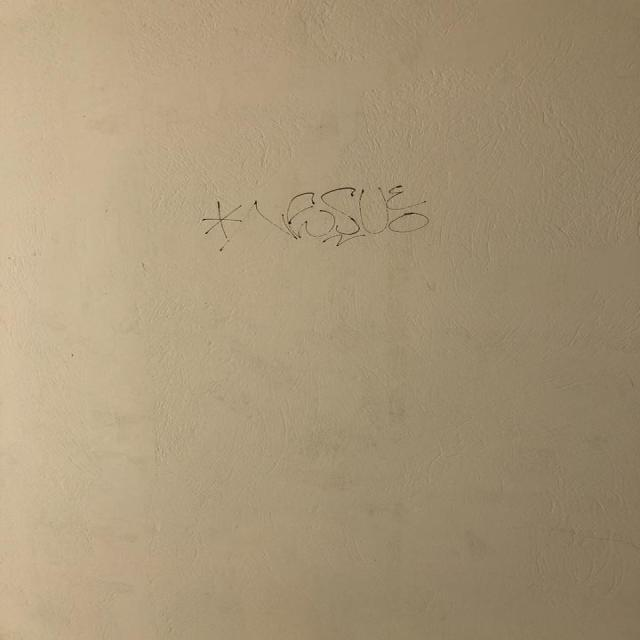nonspitting: (203, 184, 429, 252)
